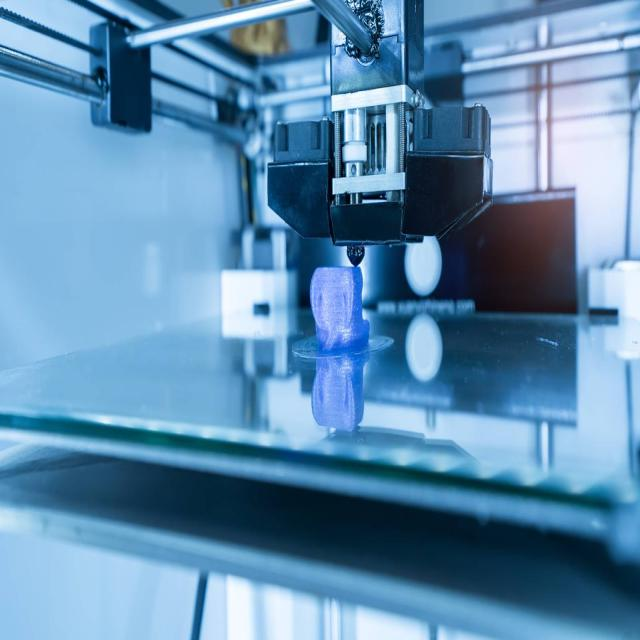Without deffect: (295, 252, 389, 366)
